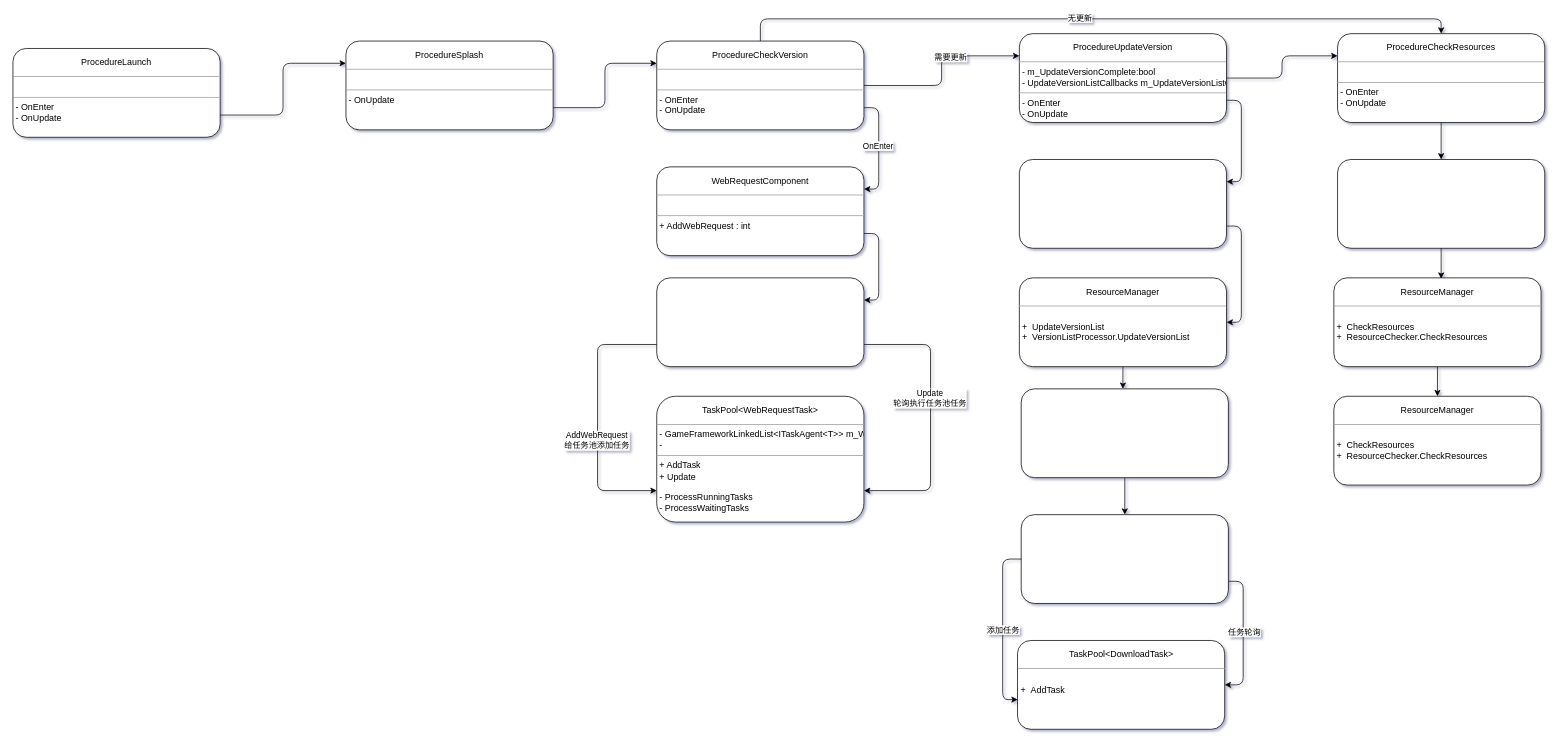
Image size: 1562x747. Some labels were removed from this diagram. Here are the shapes that lost their labels. From the top down, the centre of each, then its label:
point 1123,203: ResourceComponent + UpdateVersionList
point 1441,203: ResourceComponent + CheckResources
point 760,322: WebRequestManager + AddWebRequest : int - Update
point 1124,433: VersionListProcessor + UpdateVersionList
point 1124,558: DownloadManager + AddDownload
